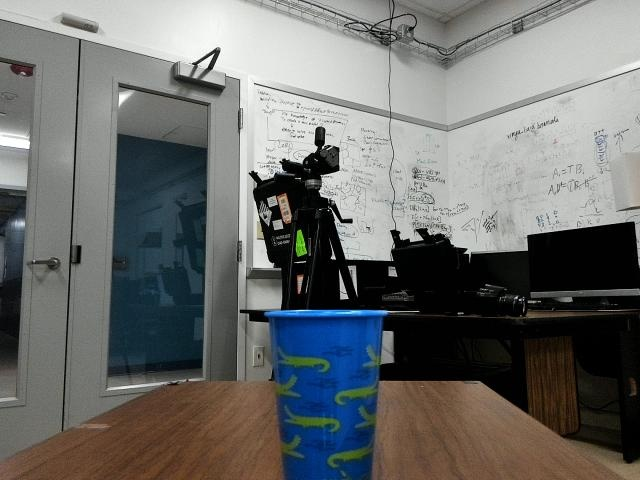water_cup: (259, 301, 394, 480)
